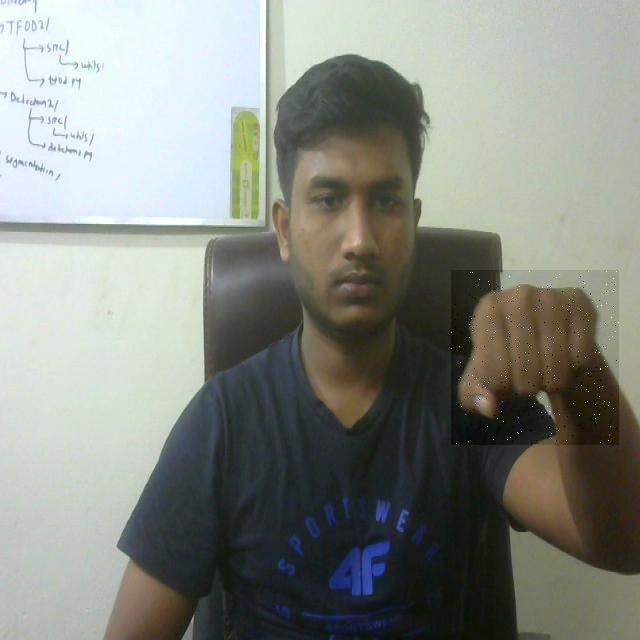Yes: (451, 270, 619, 445)
